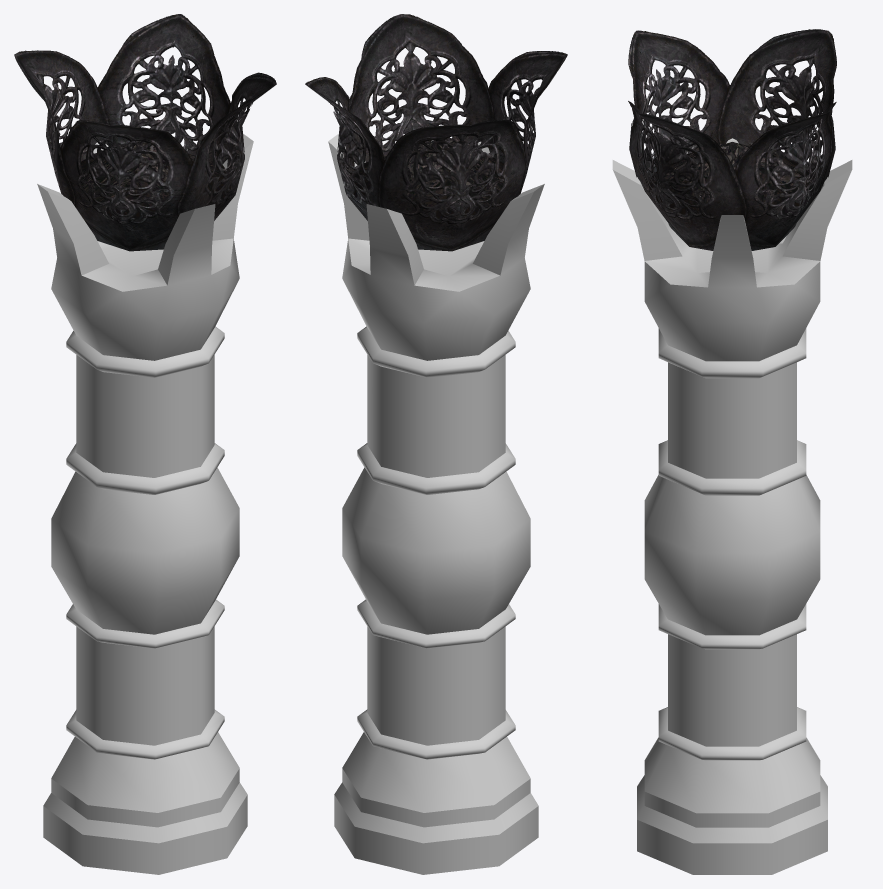
The model's file is stairwelder_torch.dae.
The picture shows the model from 3 angles, left to right: view 1: azimuth 30°, elevation 25°; view 2: azimuth 150°, elevation 25°; view 3: azimuth 270°, elevation 25°; orthographic projection.
Visible parts, largest first — view 1: pCylinder2, polySurface6; view 2: pCylinder2, polySurface6; view 3: pCylinder2, polySurface6.
Part boxes in pixels (bbox=[...]): pCylinder2: bbox=[37, 121, 253, 874]; polySurface6: bbox=[14, 14, 276, 251]; pCylinder2: bbox=[328, 133, 544, 874]; polySurface6: bbox=[305, 14, 567, 251]; pCylinder2: bbox=[612, 138, 852, 874]; polySurface6: bbox=[628, 29, 836, 250].
Bounding box in the file's own units: 1.28 × 3.97 × 1.28.
